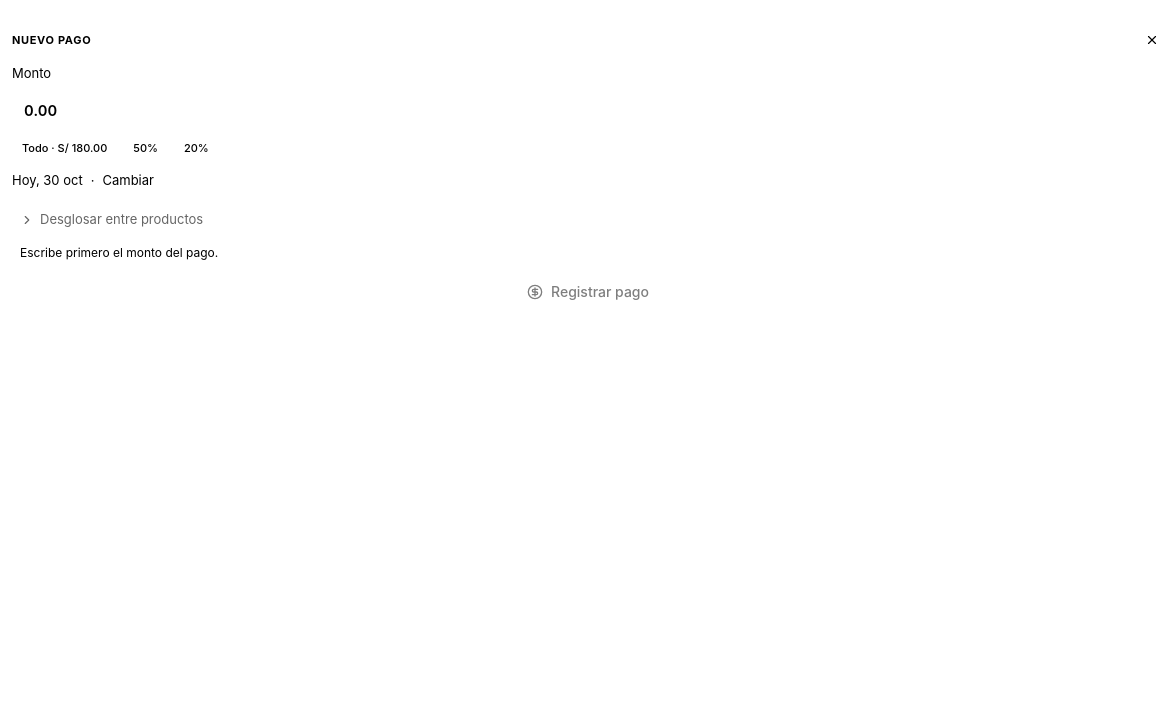
Test: order payment breakdown · Marcar todos ticks and splits (§3.4) › leaves nothing behind once the foot's own Limpiar is pressed
Type "180.00" into the field labelled "Monto" at (588, 111), box 12,90 -> 1164,132
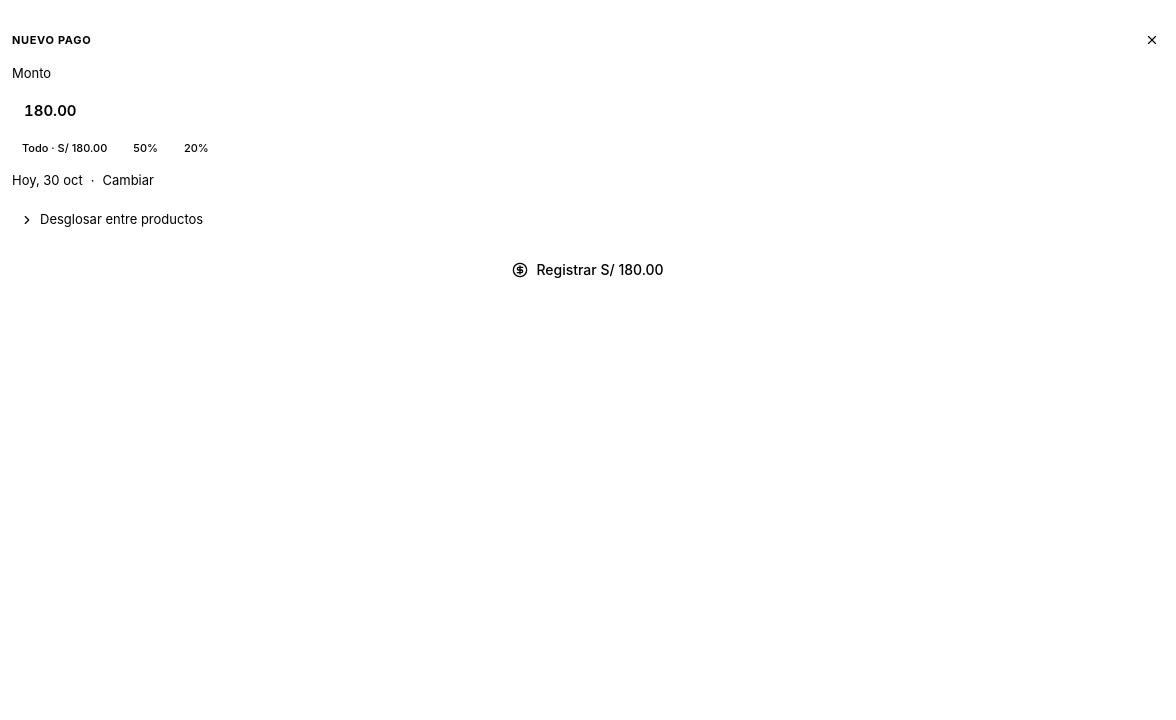
Click the button "Desglosar entre productos" at (122, 219), box 12,200 -> 1164,240
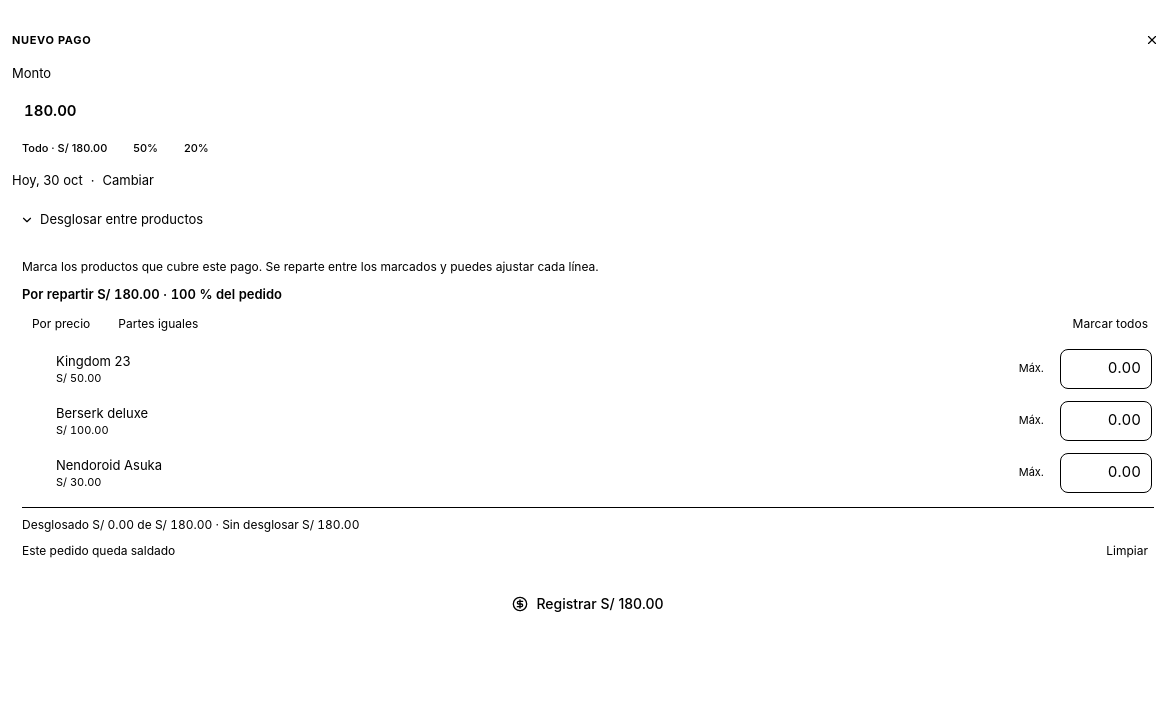
Click the button "Marcar todos" at (1110, 324), box 1067,310 -> 1154,336
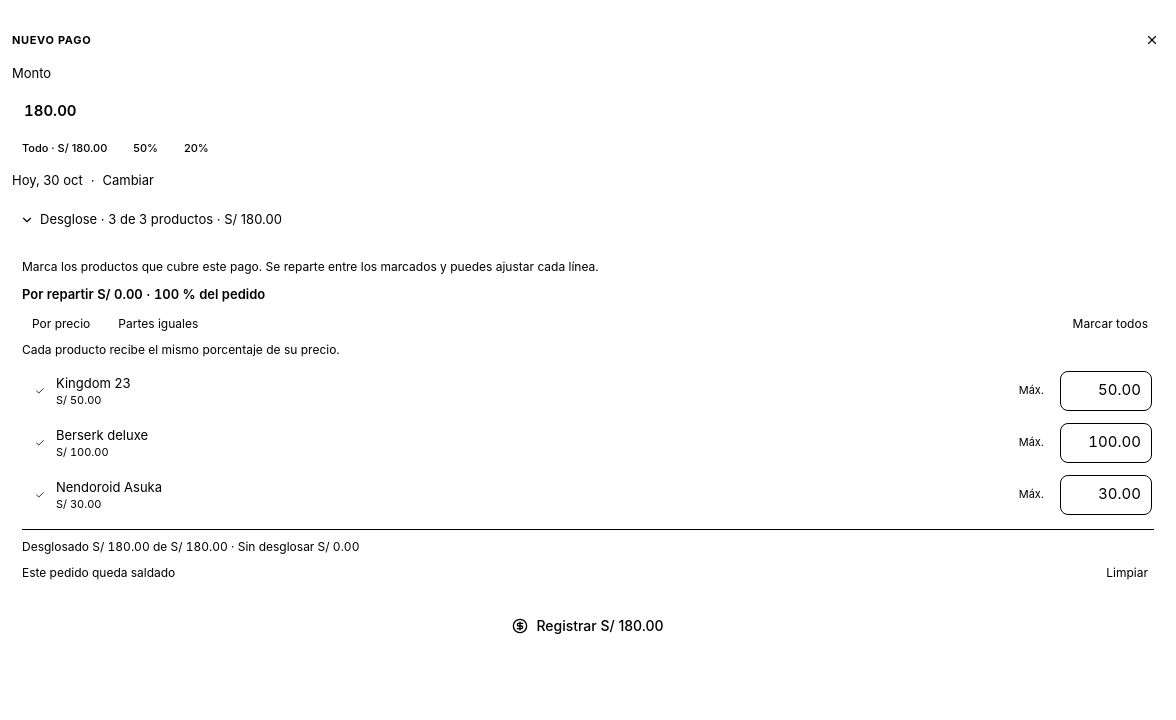
Click the button with aria-label "Limpiar el desglose" at (1127, 572), box 1100,560 -> 1154,586
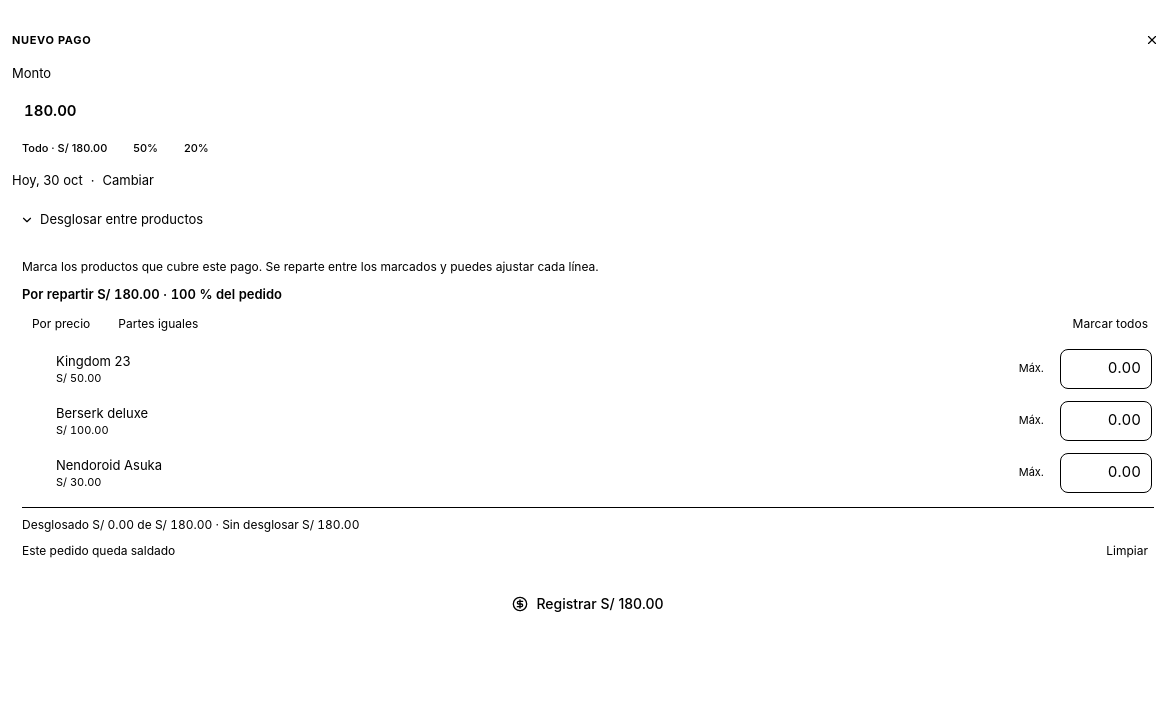
Expected: the button "Desglosar entre productos" is shown, 12,200 -> 1164,240
